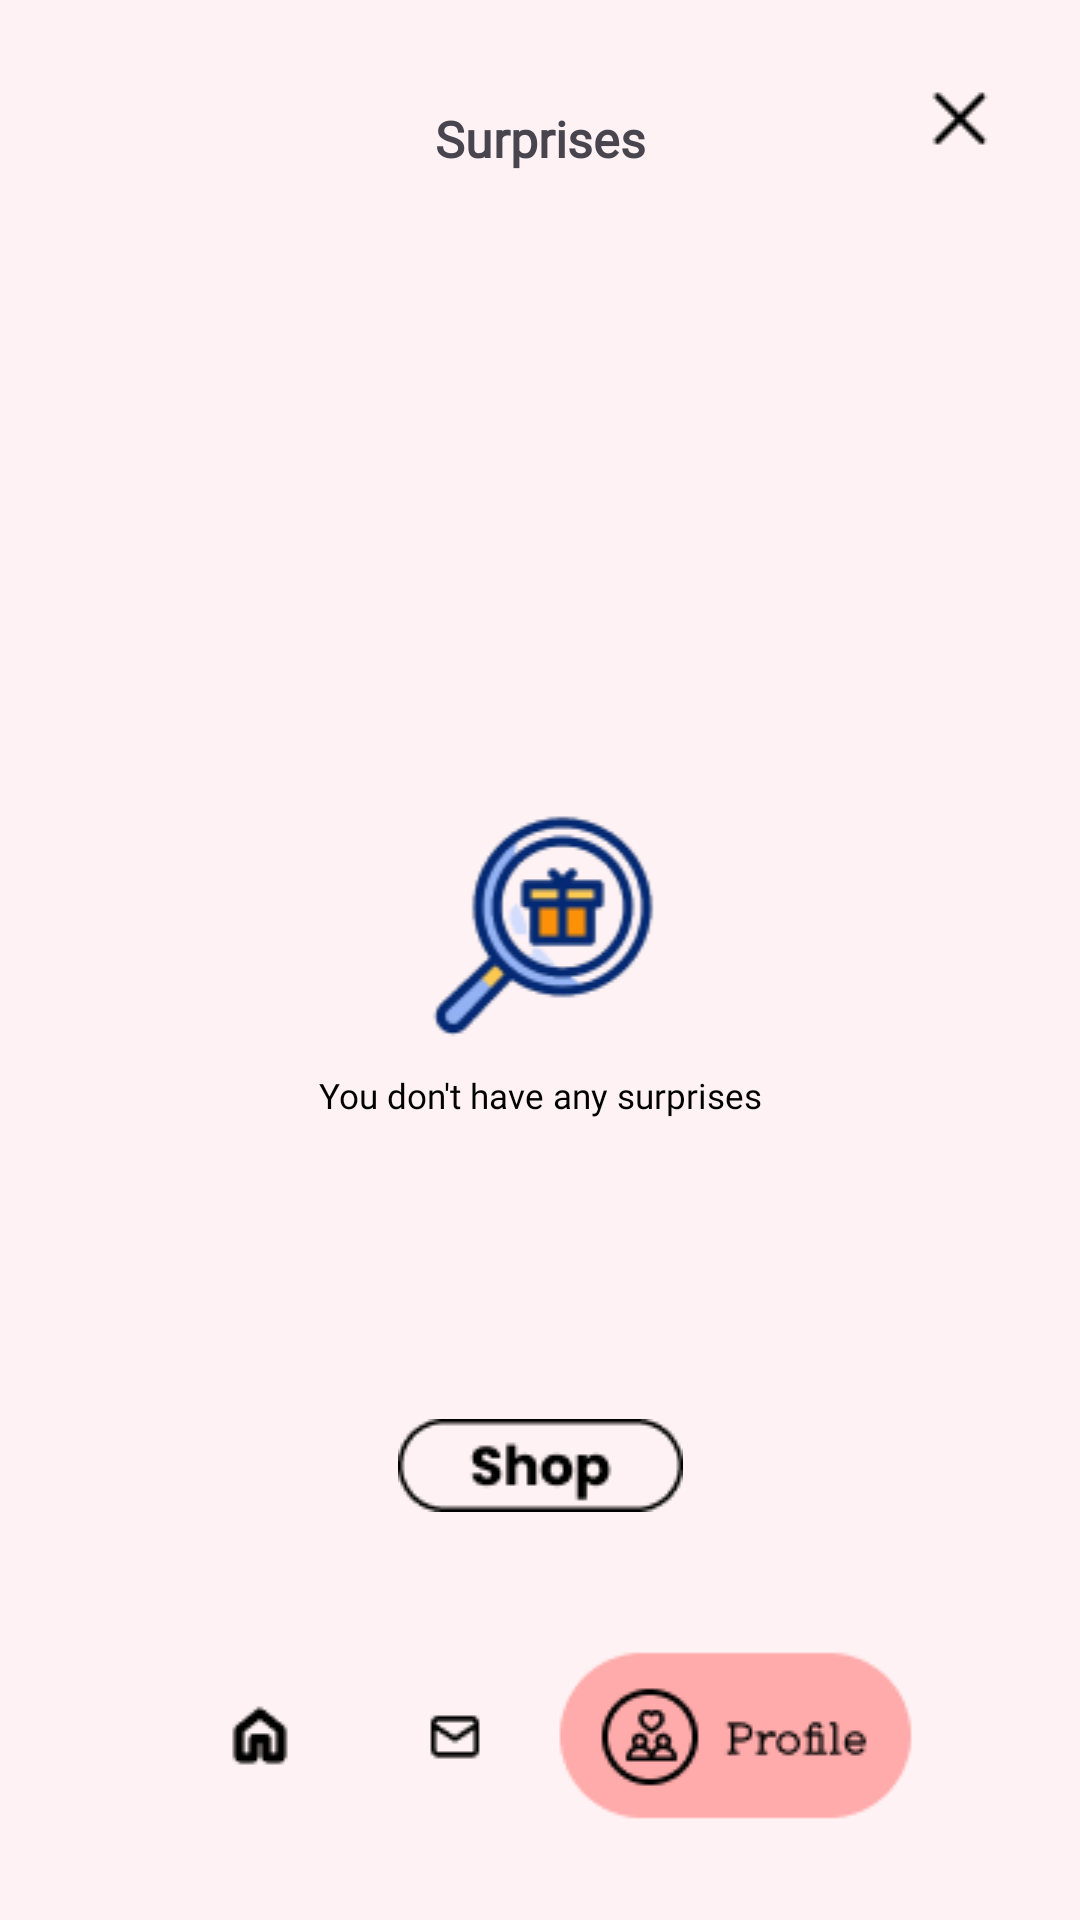

Where icons sit on this 1080x1920 app screen, as (x1, y1, x2, y2):
exit: (932, 92, 987, 145)
nomemories: (433, 816, 654, 1035)
